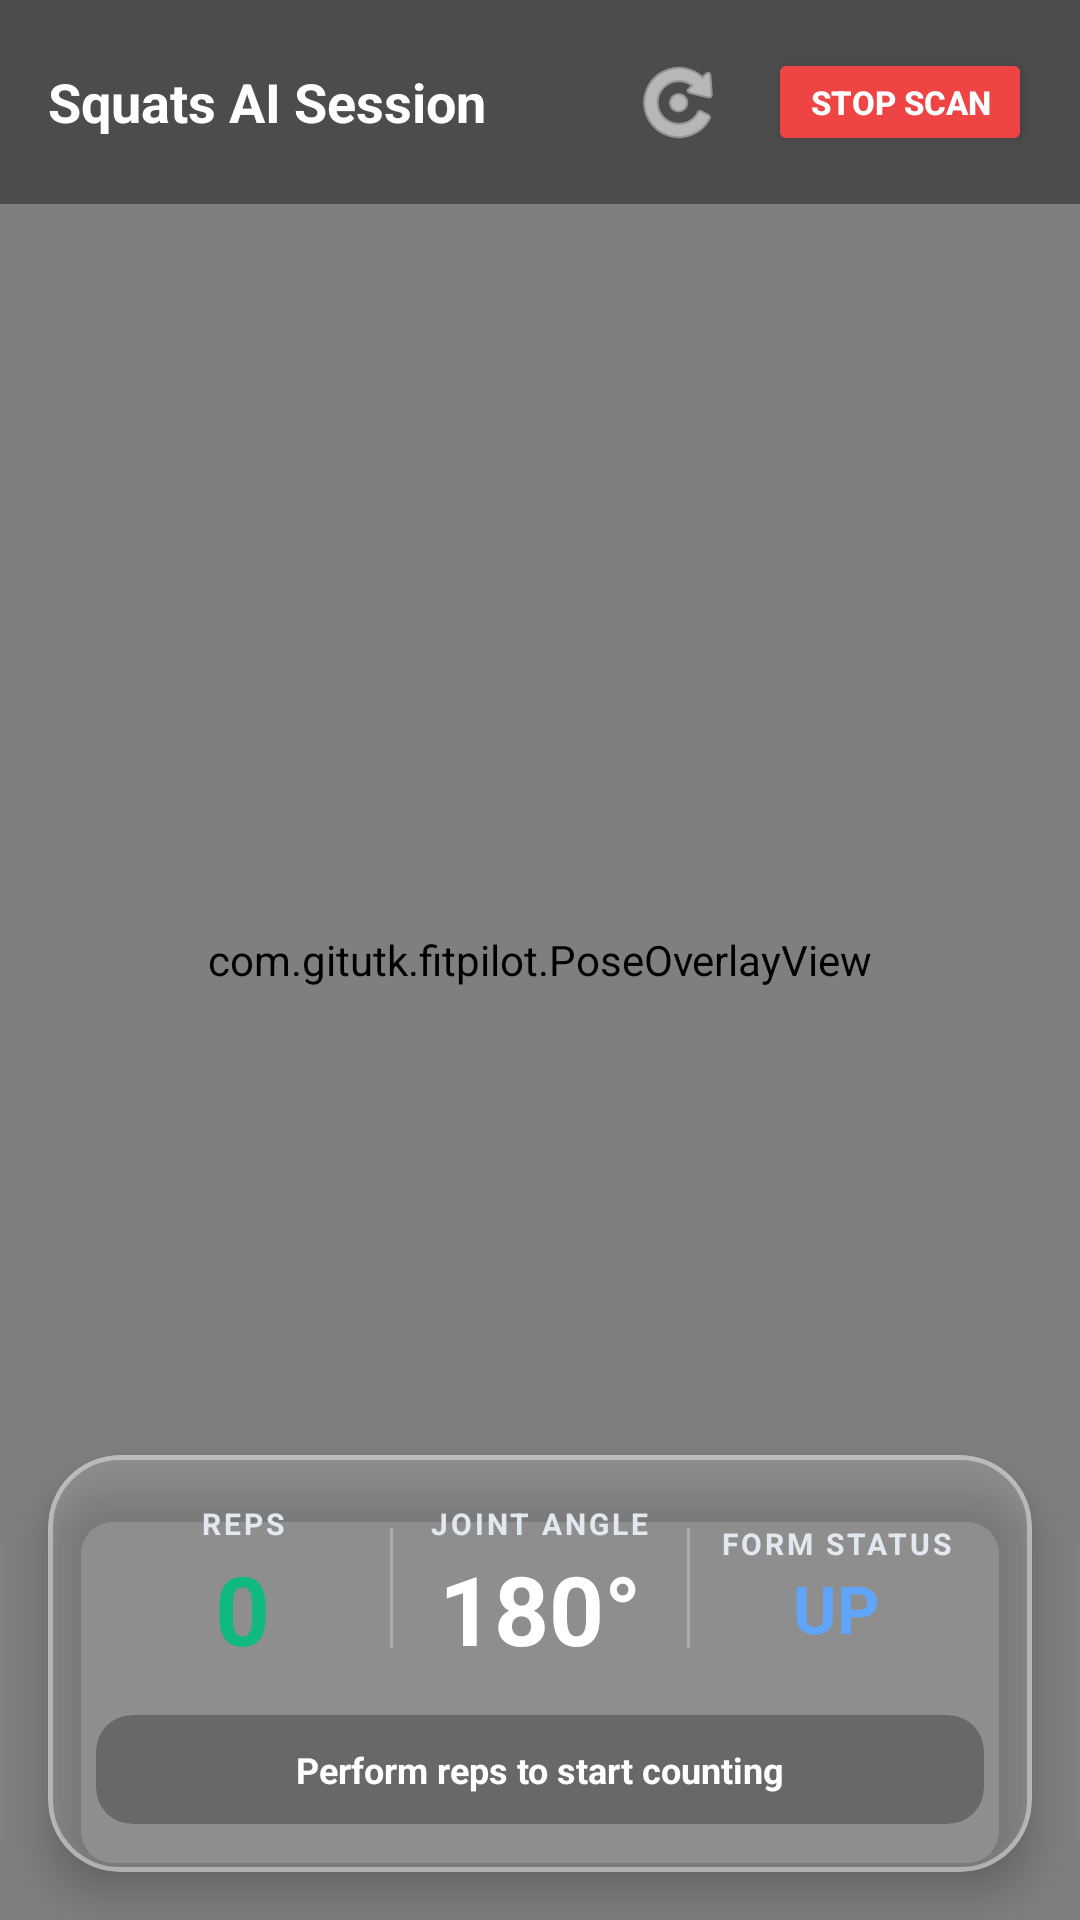

Where icons sit on this 1080w x 1920h app screen, as bbox(x1, y1, x2, y2):
Rotate Camera: bbox(643, 67, 713, 138)
